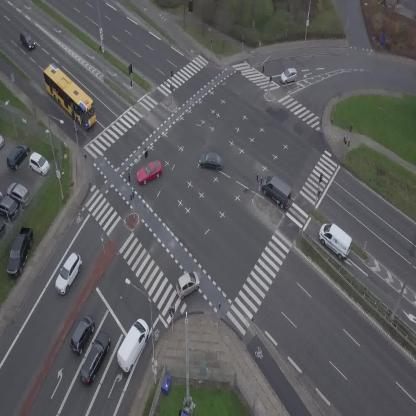bus: (35, 61, 106, 132)
car: (75, 329, 115, 388), (50, 251, 87, 297), (65, 312, 100, 357), (170, 267, 205, 301), (132, 158, 166, 187), (16, 30, 39, 53), (198, 152, 223, 170), (279, 67, 298, 84)
lorry: (111, 316, 155, 375), (313, 218, 358, 262), (257, 171, 300, 212)
